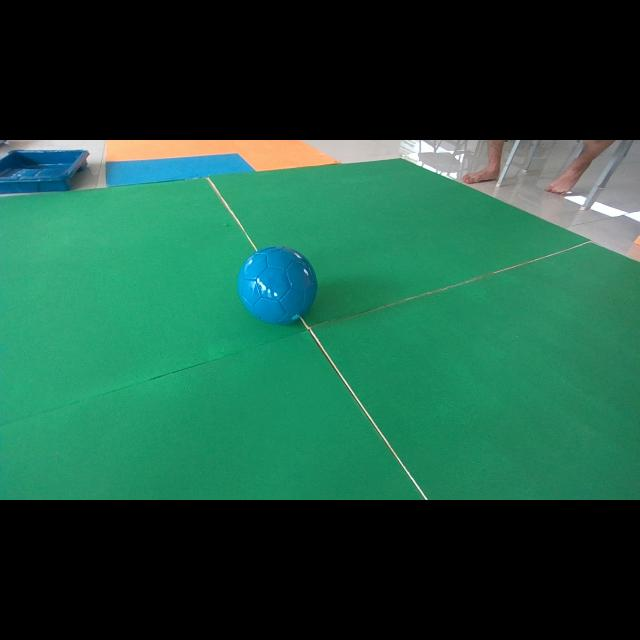B: (238, 246, 318, 324)
